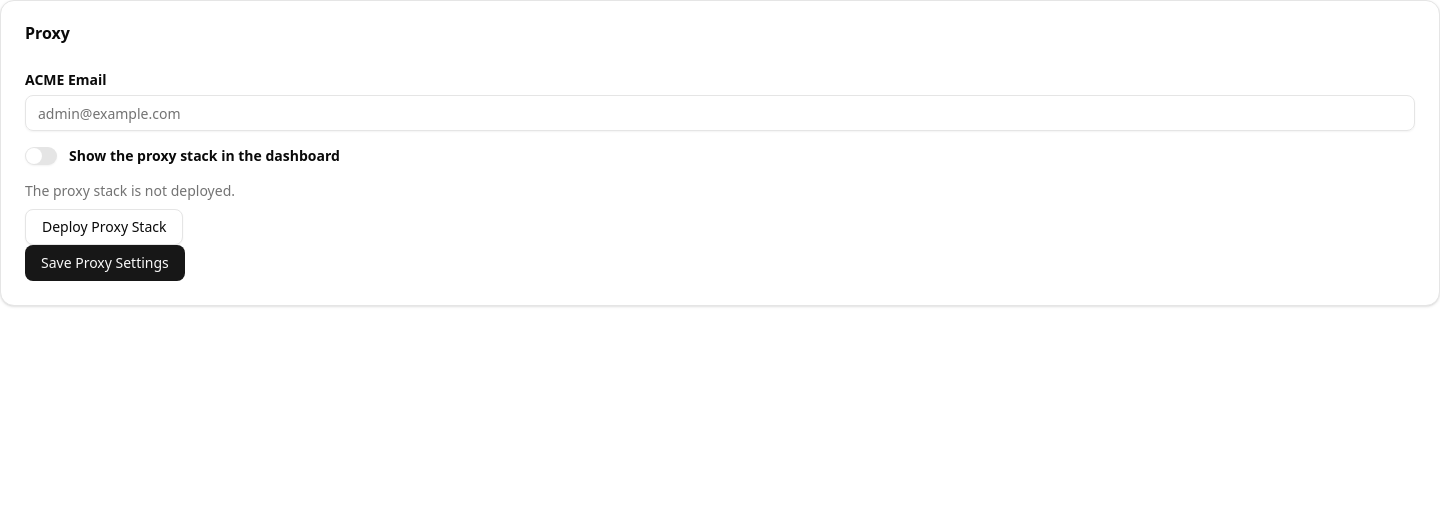
ProxySettingsCard › renders the D-11 alert and the raw deploy error verbatim on a failed deploy
Click the button "Deploy Proxy Stack" at (104, 227), box [25,209,184,245]
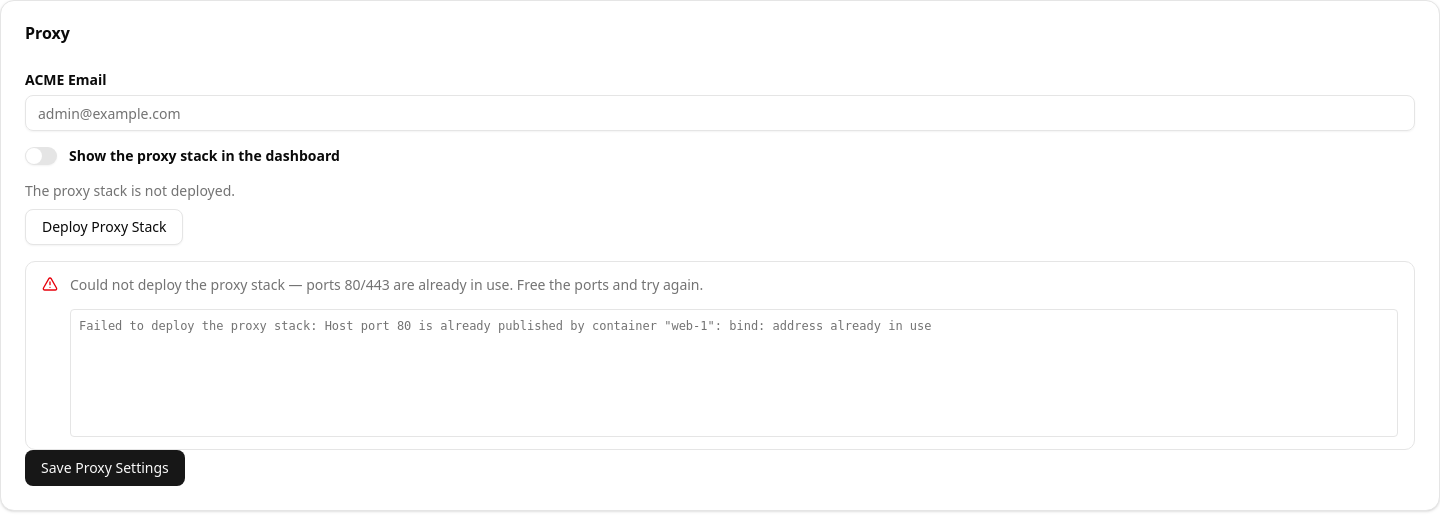
Check: the text "Could not deploy the proxy stack — ports 80/443 are already in use" is shown, box [70,275,703,294]
Check: the text "bind: address already in use" is shown, box [79,319,932,333]
